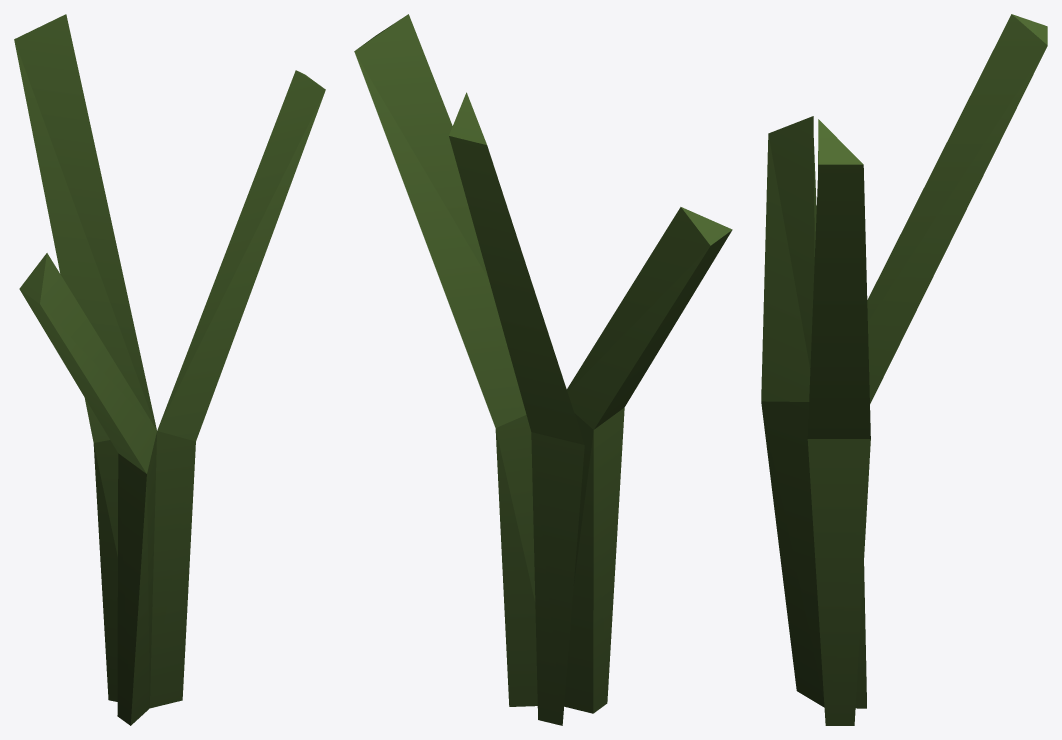
Rendered from Crop_Garlic_STAGE_2_01.obj.
3 renders of one model, left to right at view 1: azimuth 30°, elevation 25°; view 2: azimuth 150°, elevation 25°; view 3: azimuth 270°, elevation 25°, orthographic. The views are drawn at different scales.
Parts seen in each view (by area): view 1: Crop_Garlic_STAGE_2_01; view 2: Crop_Garlic_STAGE_2_01; view 3: Crop_Garlic_STAGE_2_01.
Part boxes in pixels (x1=…): Crop_Garlic_STAGE_2_01: x1=14, y1=14, x2=325, y2=725; Crop_Garlic_STAGE_2_01: x1=354, y1=14, x2=732, y2=725; Crop_Garlic_STAGE_2_01: x1=761, y1=14, x2=1047, y2=725.
Size of the model in its own units: 0.0931 by 0.1822 by 0.0681.
1 material, 1 textured.
